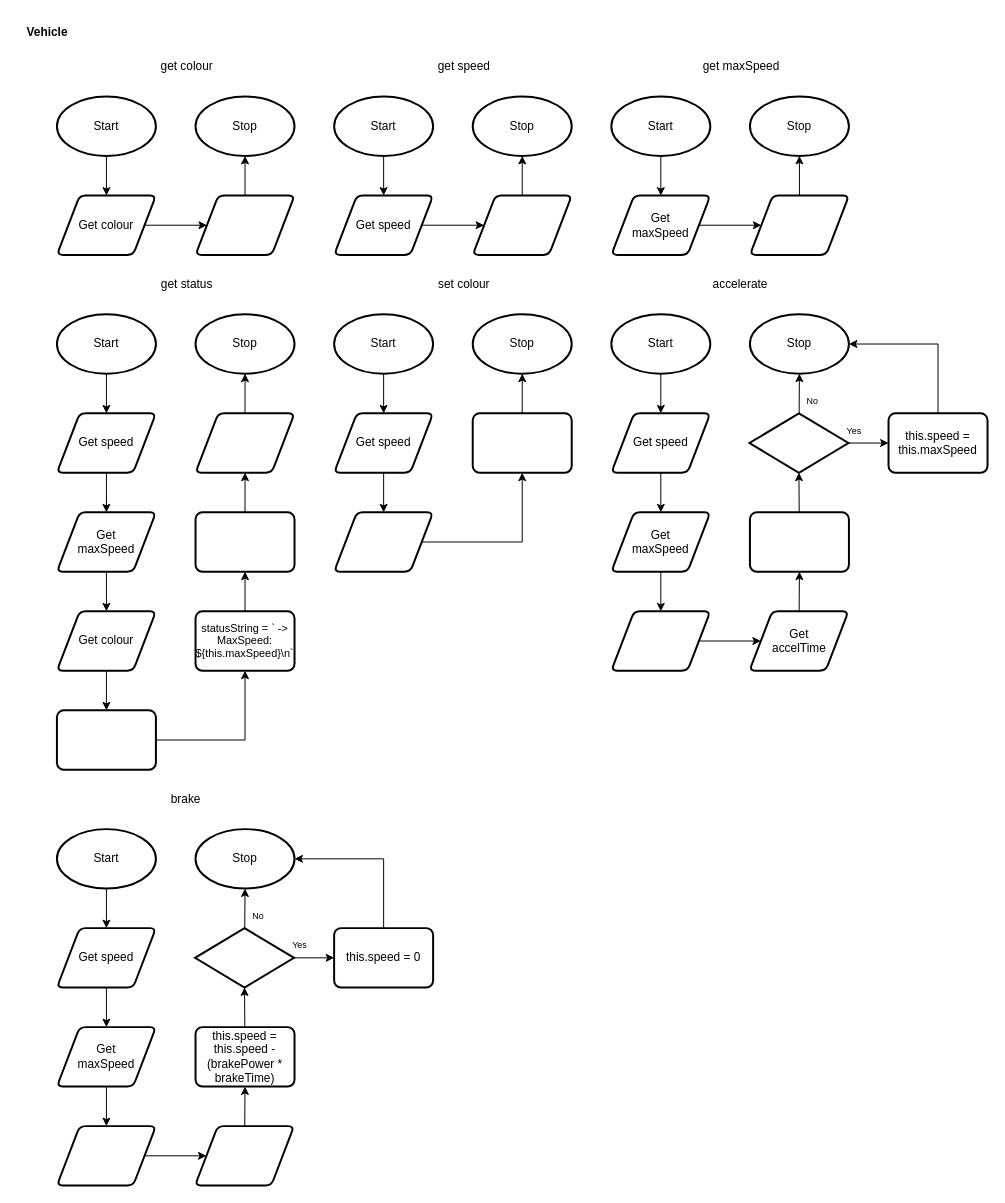
Image size: 1005x1203. Some labels were removed from this diagram. Here are the shapes that lost their labels. From the top down, the box of each, then its label:
(194, 194, 295, 255): return this.colour
(471, 194, 572, 255): return this.speed
(748, 194, 849, 255): return this.maxSpeed
(194, 412, 295, 473): return statusString
(471, 412, 572, 473): this.colour = newColour
(748, 412, 849, 473): if (this.speed > this.maxSpeed)
(194, 511, 295, 572): statusString = ` -> Color: ${this.colour}`
(333, 511, 434, 572): Get newColour
(748, 511, 849, 572): this.speed = (accelPower * accelTime) + this.speed
(610, 610, 711, 671): Get accelPower
(55, 709, 156, 770): statusString = ` -> Speed: ${this.speed}\n`
(194, 927, 295, 988): if (this.speed < 0)
(55, 1125, 156, 1186): Get brakePower
(194, 1125, 295, 1186): Get brakeTime
